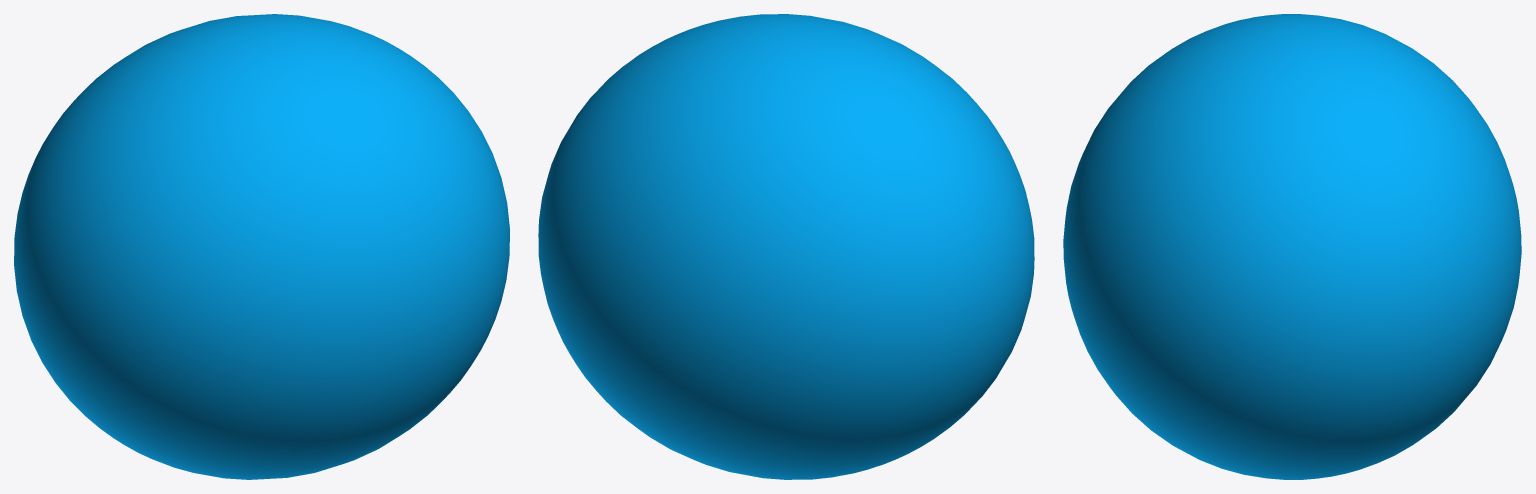
Rendered from drop.fbx.
3 views of the same model, side by side, from view 1: azimuth 30°, elevation 25°; view 2: azimuth 150°, elevation 25°; view 3: azimuth 270°, elevation 25° (orthographic).
Parts seen in each view (by area): view 1: root; view 2: root; view 3: root.
Boxes of the visible parts, bbox=[...] form: root: bbox=[14, 14, 509, 479]; root: bbox=[538, 14, 1034, 479]; root: bbox=[1063, 14, 1521, 479].
Bounding box in the file's own units: 0.177 × 0.1619 × 0.1619.
Materials: 1 (1 with a texture image).
